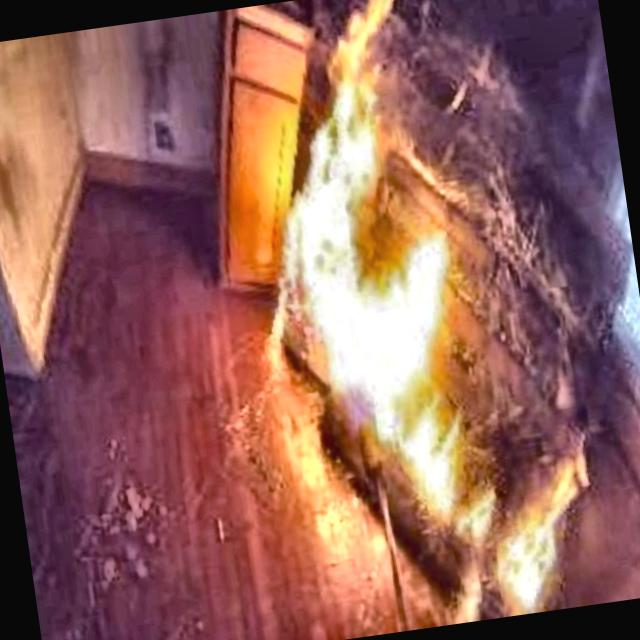fire: (226, 0, 585, 580)
